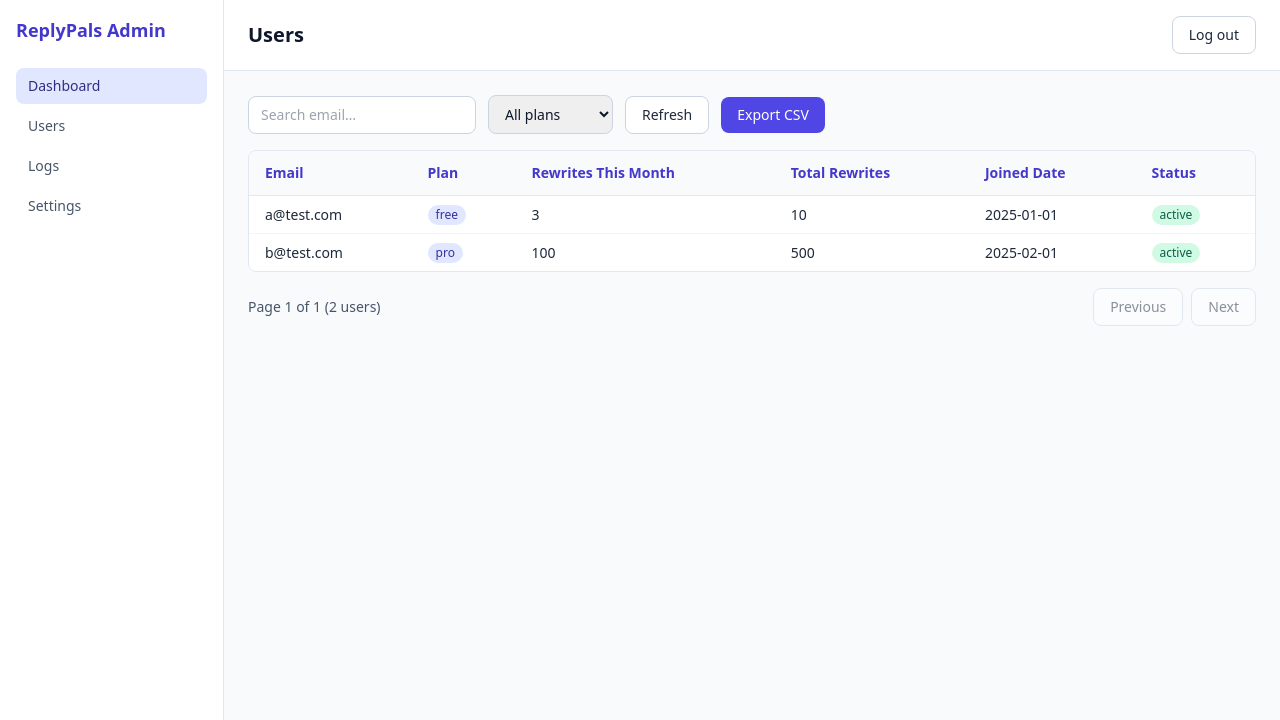
UsersPage › plan filter shows only users of selected plan
Expected: the text "b@test.com" is shown, [249, 234, 412, 271]
Select "Pro" in the dropdown named "plan" at {"x": 550, "y": 114}, box [488, 95, 613, 134]
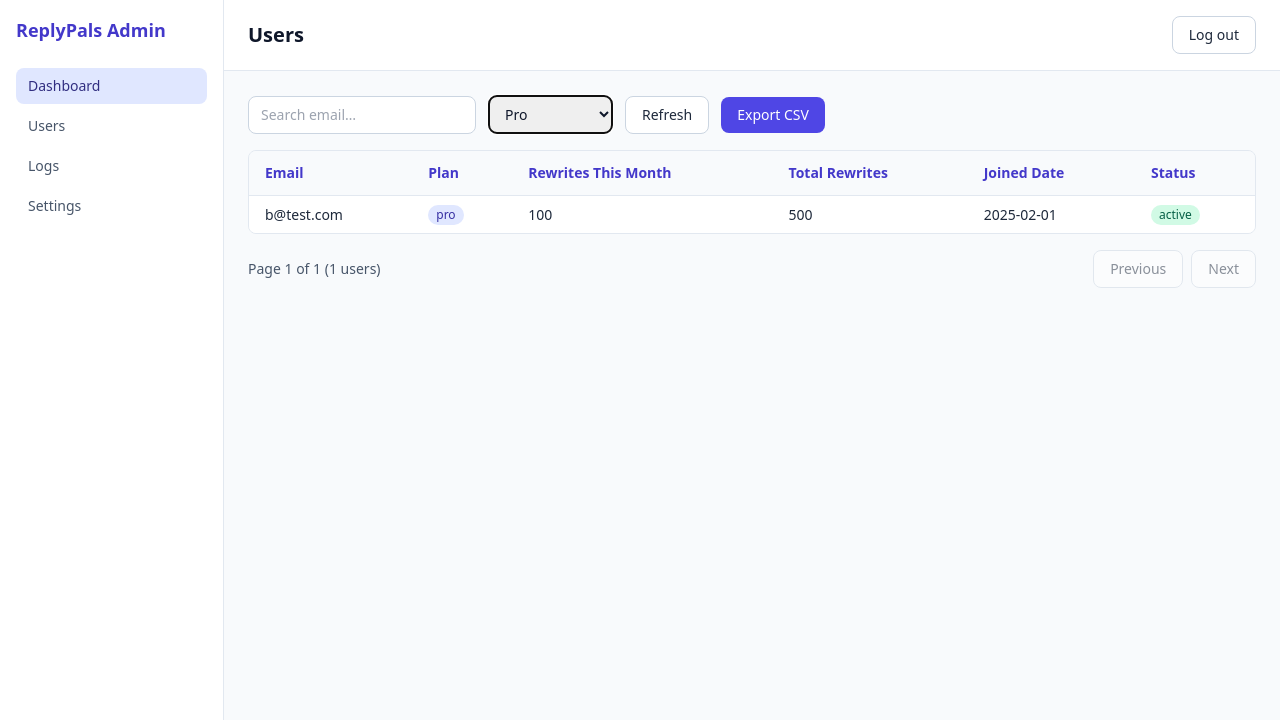
Expected: the text "a@test.com" is gone
